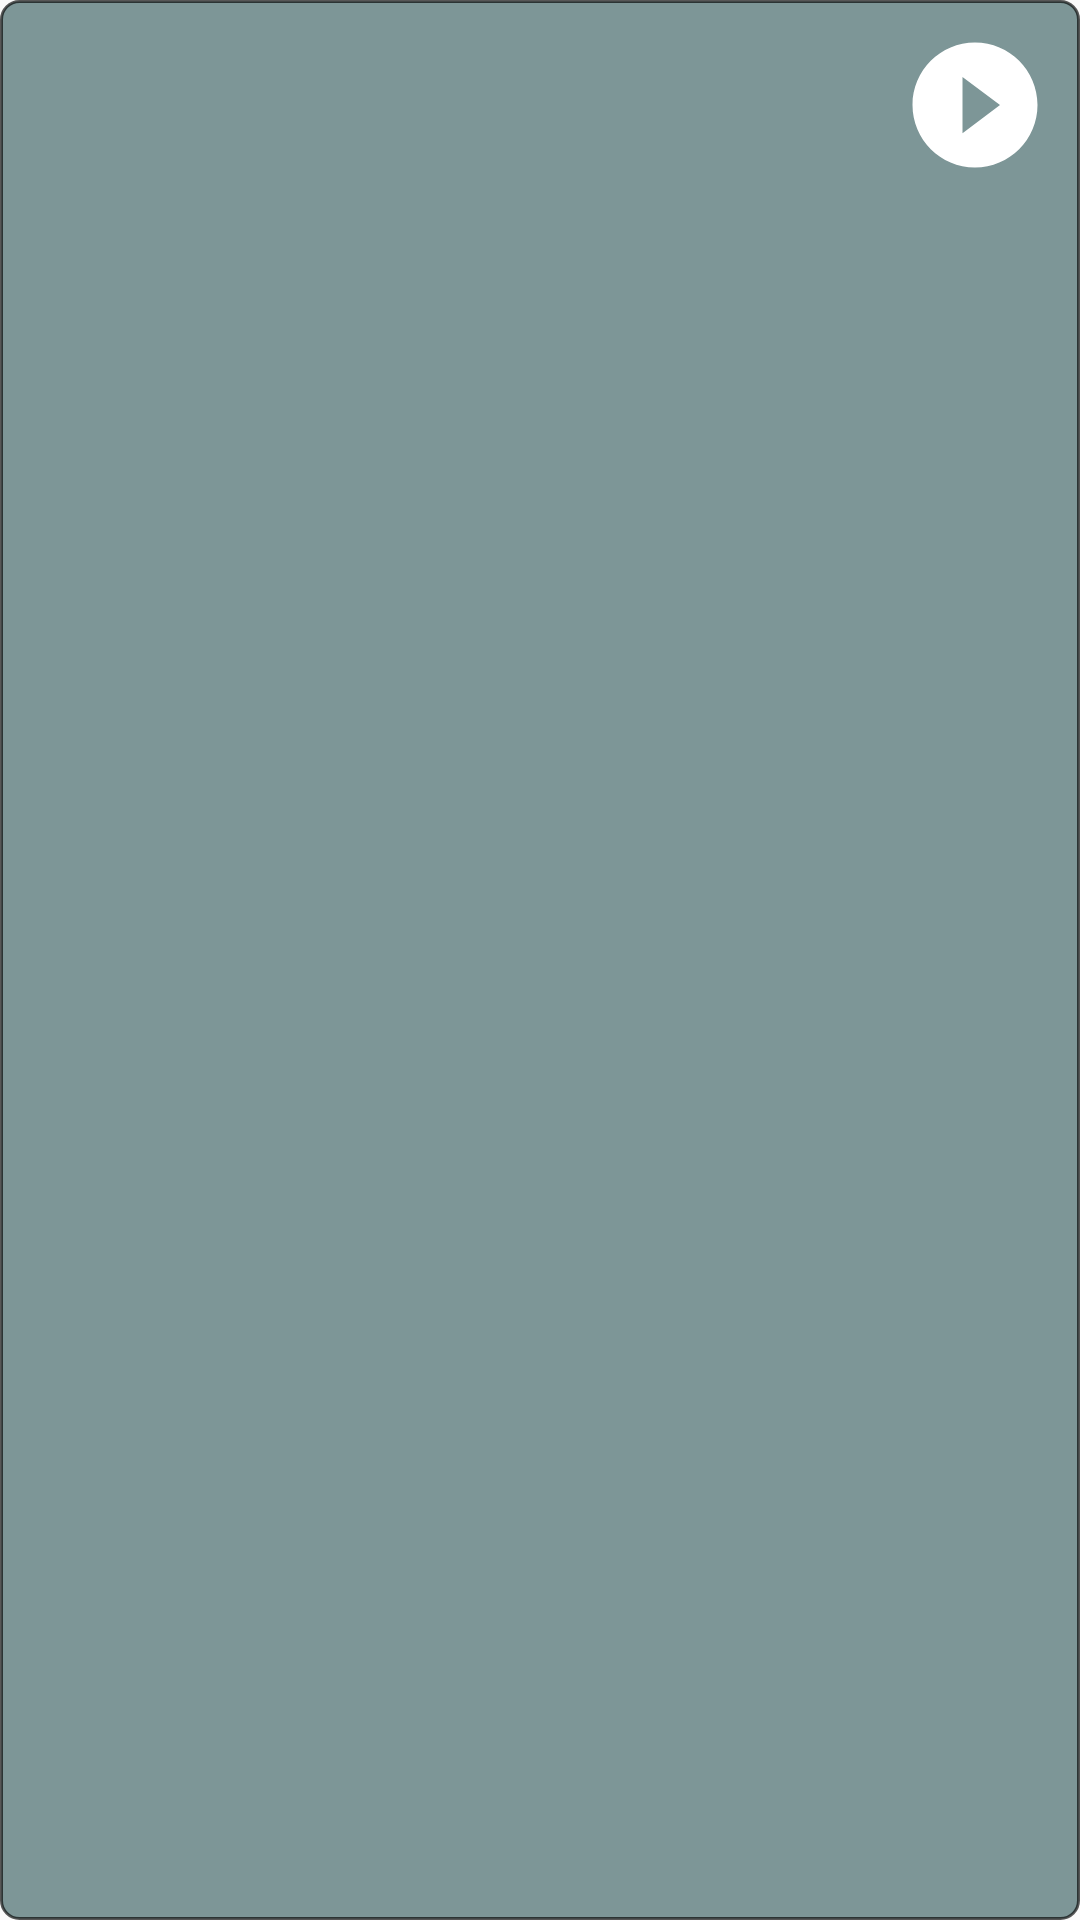

Where to tap for icons on this 1080 x 1920 app screen, as [x,y]:
play: [975,105]
